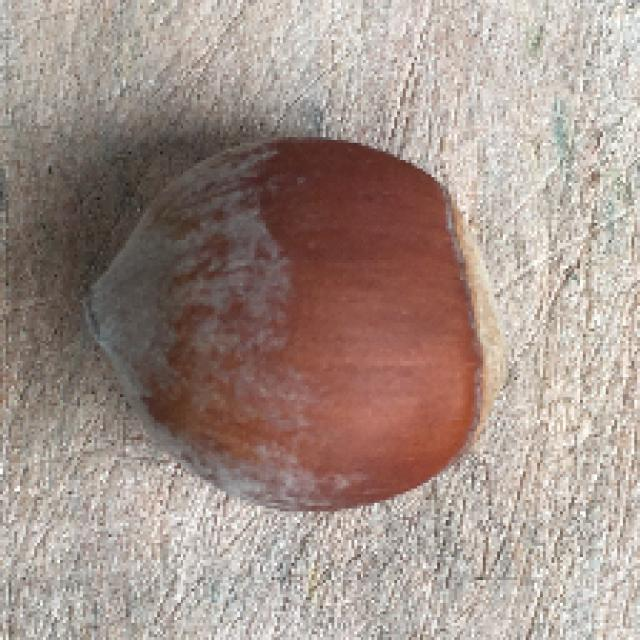qualityHazelnut: (70, 130, 500, 517)
